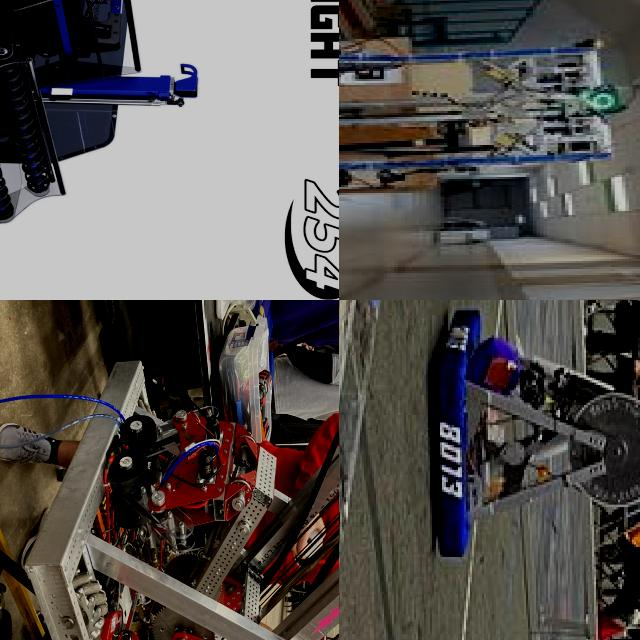FRC-Robots: (19, 300, 339, 640), (339, 0, 628, 249), (0, 0, 254, 242), (434, 300, 640, 589)
